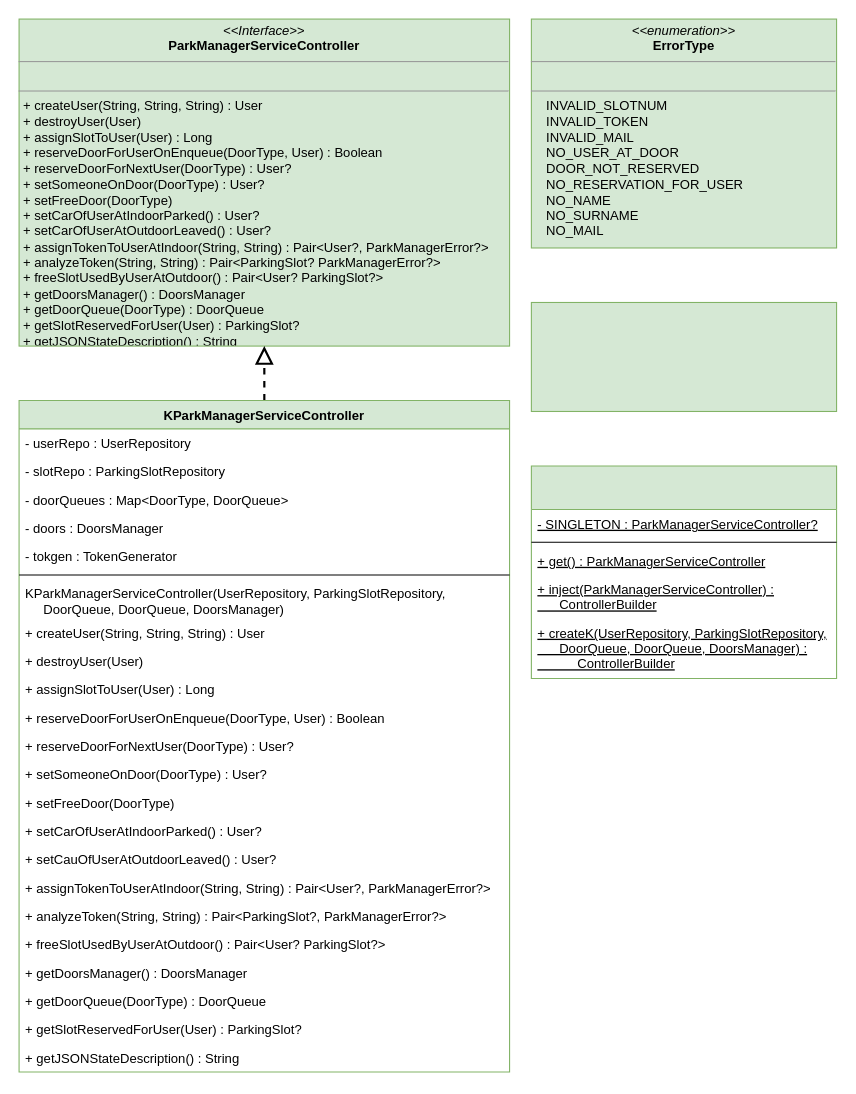
Some shapes in this 856 by 1094 pixel diagram are drawn without their labels. The shapes that lost their labels are listed below. From the top down, each one's box as (x1, y1, x2, y2) in pixels, then its label:
(530, 301, 837, 411): <<Data Class>> ParkManagerError + type : ErrorType + msg : String
(530, 465, 837, 679): <<object>> ControllerBuilder
